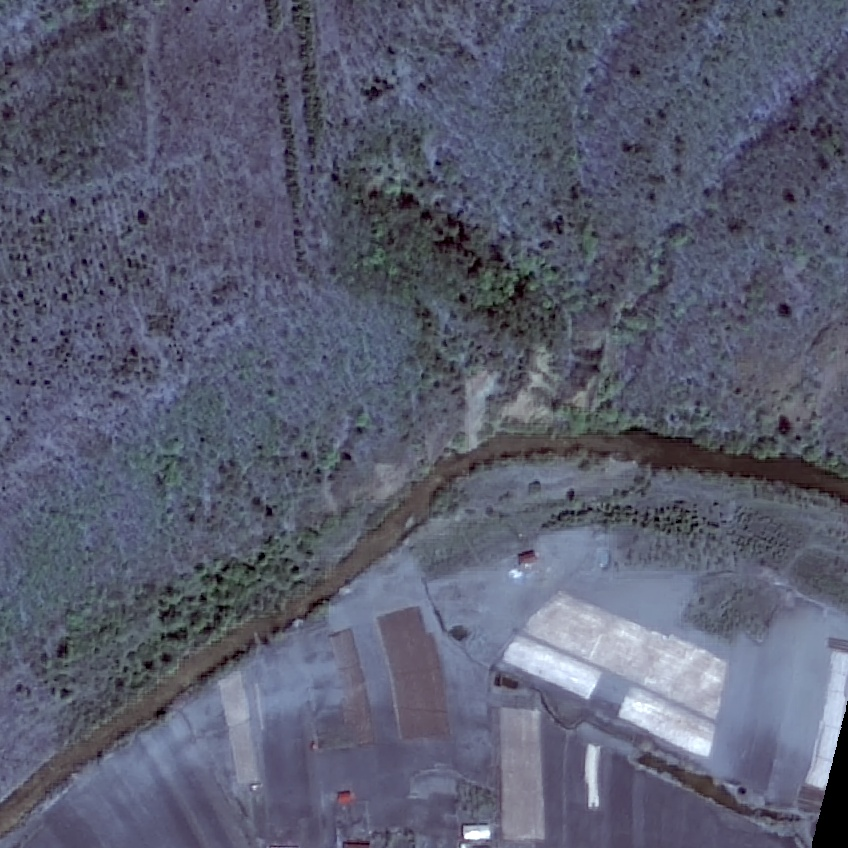slope: (458, 326, 625, 454)
